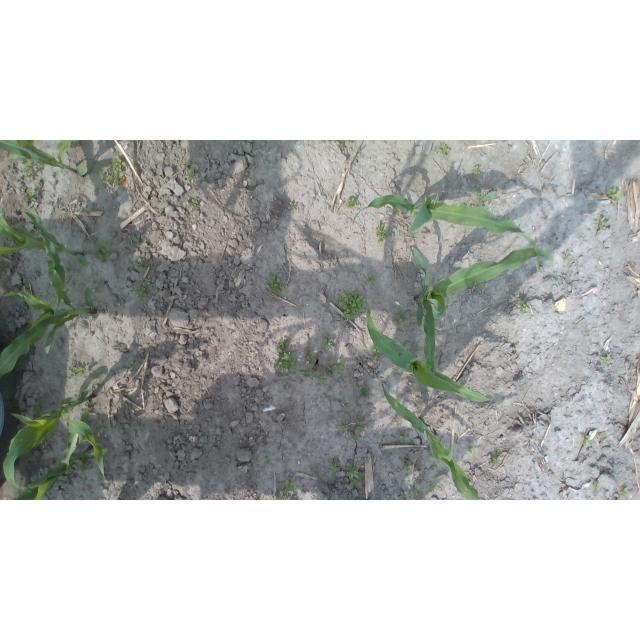Maize: (410, 244, 554, 374), (354, 193, 542, 272), (0, 229, 96, 378), (363, 301, 489, 402), (4, 378, 108, 490), (382, 387, 479, 500), (0, 210, 86, 311), (15, 416, 108, 500), (1, 140, 94, 178)
Weeds: (98, 155, 126, 187), (337, 292, 367, 320), (472, 188, 497, 209), (276, 352, 297, 372), (22, 158, 41, 179), (95, 240, 111, 264), (347, 469, 364, 490), (349, 420, 366, 441), (21, 189, 41, 206), (376, 224, 392, 245), (68, 364, 86, 380), (268, 277, 283, 295), (322, 334, 334, 353), (328, 360, 345, 373), (607, 188, 623, 201), (11, 153, 29, 164), (394, 312, 407, 327), (276, 339, 289, 354), (285, 479, 298, 494), (436, 144, 450, 157), (330, 459, 341, 473), (489, 453, 500, 467), (306, 351, 317, 364), (317, 372, 328, 385), (77, 255, 88, 268), (137, 284, 148, 297), (79, 458, 89, 472), (359, 385, 370, 397), (185, 168, 195, 181), (599, 216, 609, 229), (347, 198, 358, 209), (581, 435, 592, 446), (619, 488, 629, 500), (33, 406, 43, 418), (518, 301, 528, 313), (418, 486, 435, 493), (300, 368, 313, 377), (276, 491, 288, 500), (471, 165, 481, 175), (137, 258, 144, 271), (373, 348, 383, 357), (403, 462, 413, 471), (338, 425, 348, 434), (191, 199, 200, 209), (411, 488, 418, 500), (288, 202, 297, 211), (468, 444, 477, 453), (400, 434, 409, 443), (562, 252, 570, 262), (400, 491, 408, 500), (602, 356, 610, 365), (592, 483, 600, 491), (80, 405, 88, 413), (264, 452, 271, 461), (368, 276, 376, 283), (130, 236, 138, 243), (142, 242, 149, 250), (475, 284, 482, 290), (394, 208, 402, 213), (339, 141, 345, 144), (351, 140, 355, 144)
